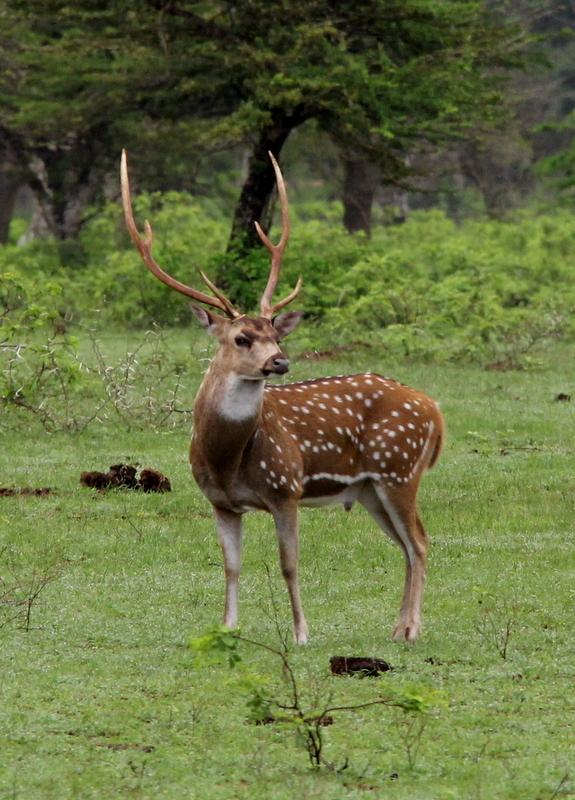Deer: (120, 150, 444, 644)
